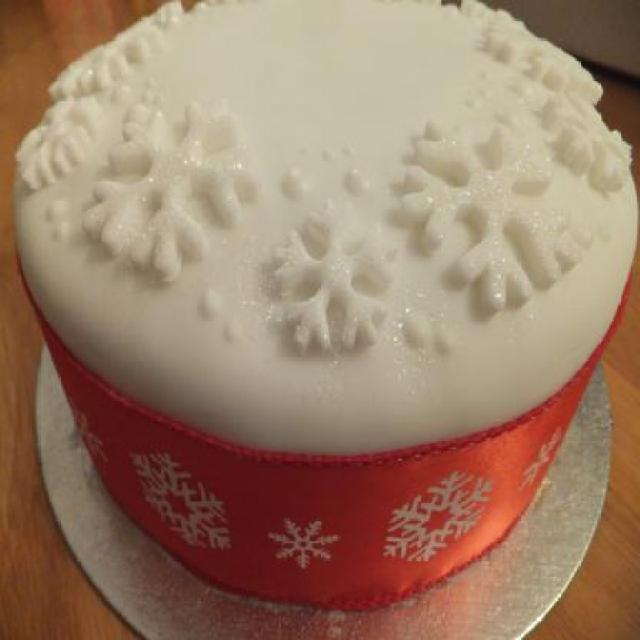Cake: (10, 0, 638, 611)
